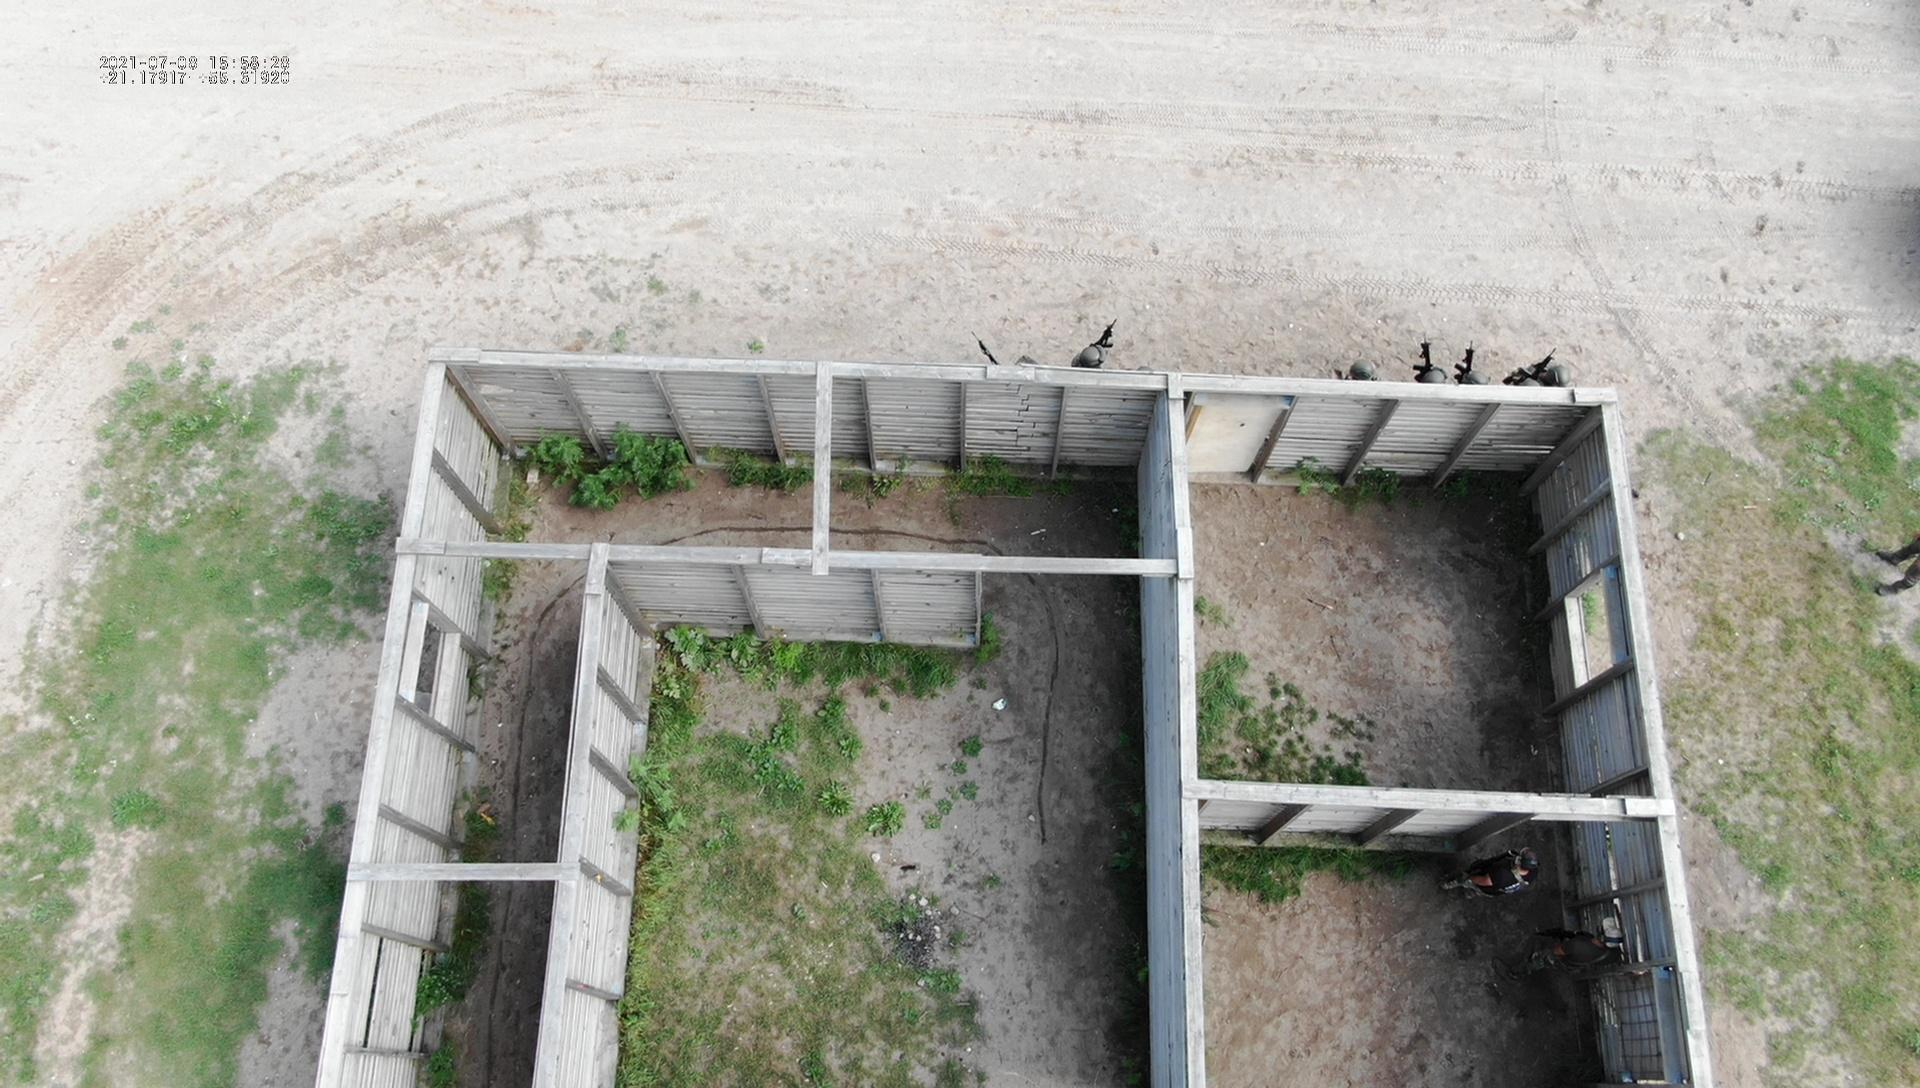Soldier: (1498, 913, 1625, 1022), (1451, 841, 1536, 946), (1065, 322, 1133, 375), (1502, 347, 1568, 393), (1407, 328, 1443, 394), (1455, 332, 1490, 388)
